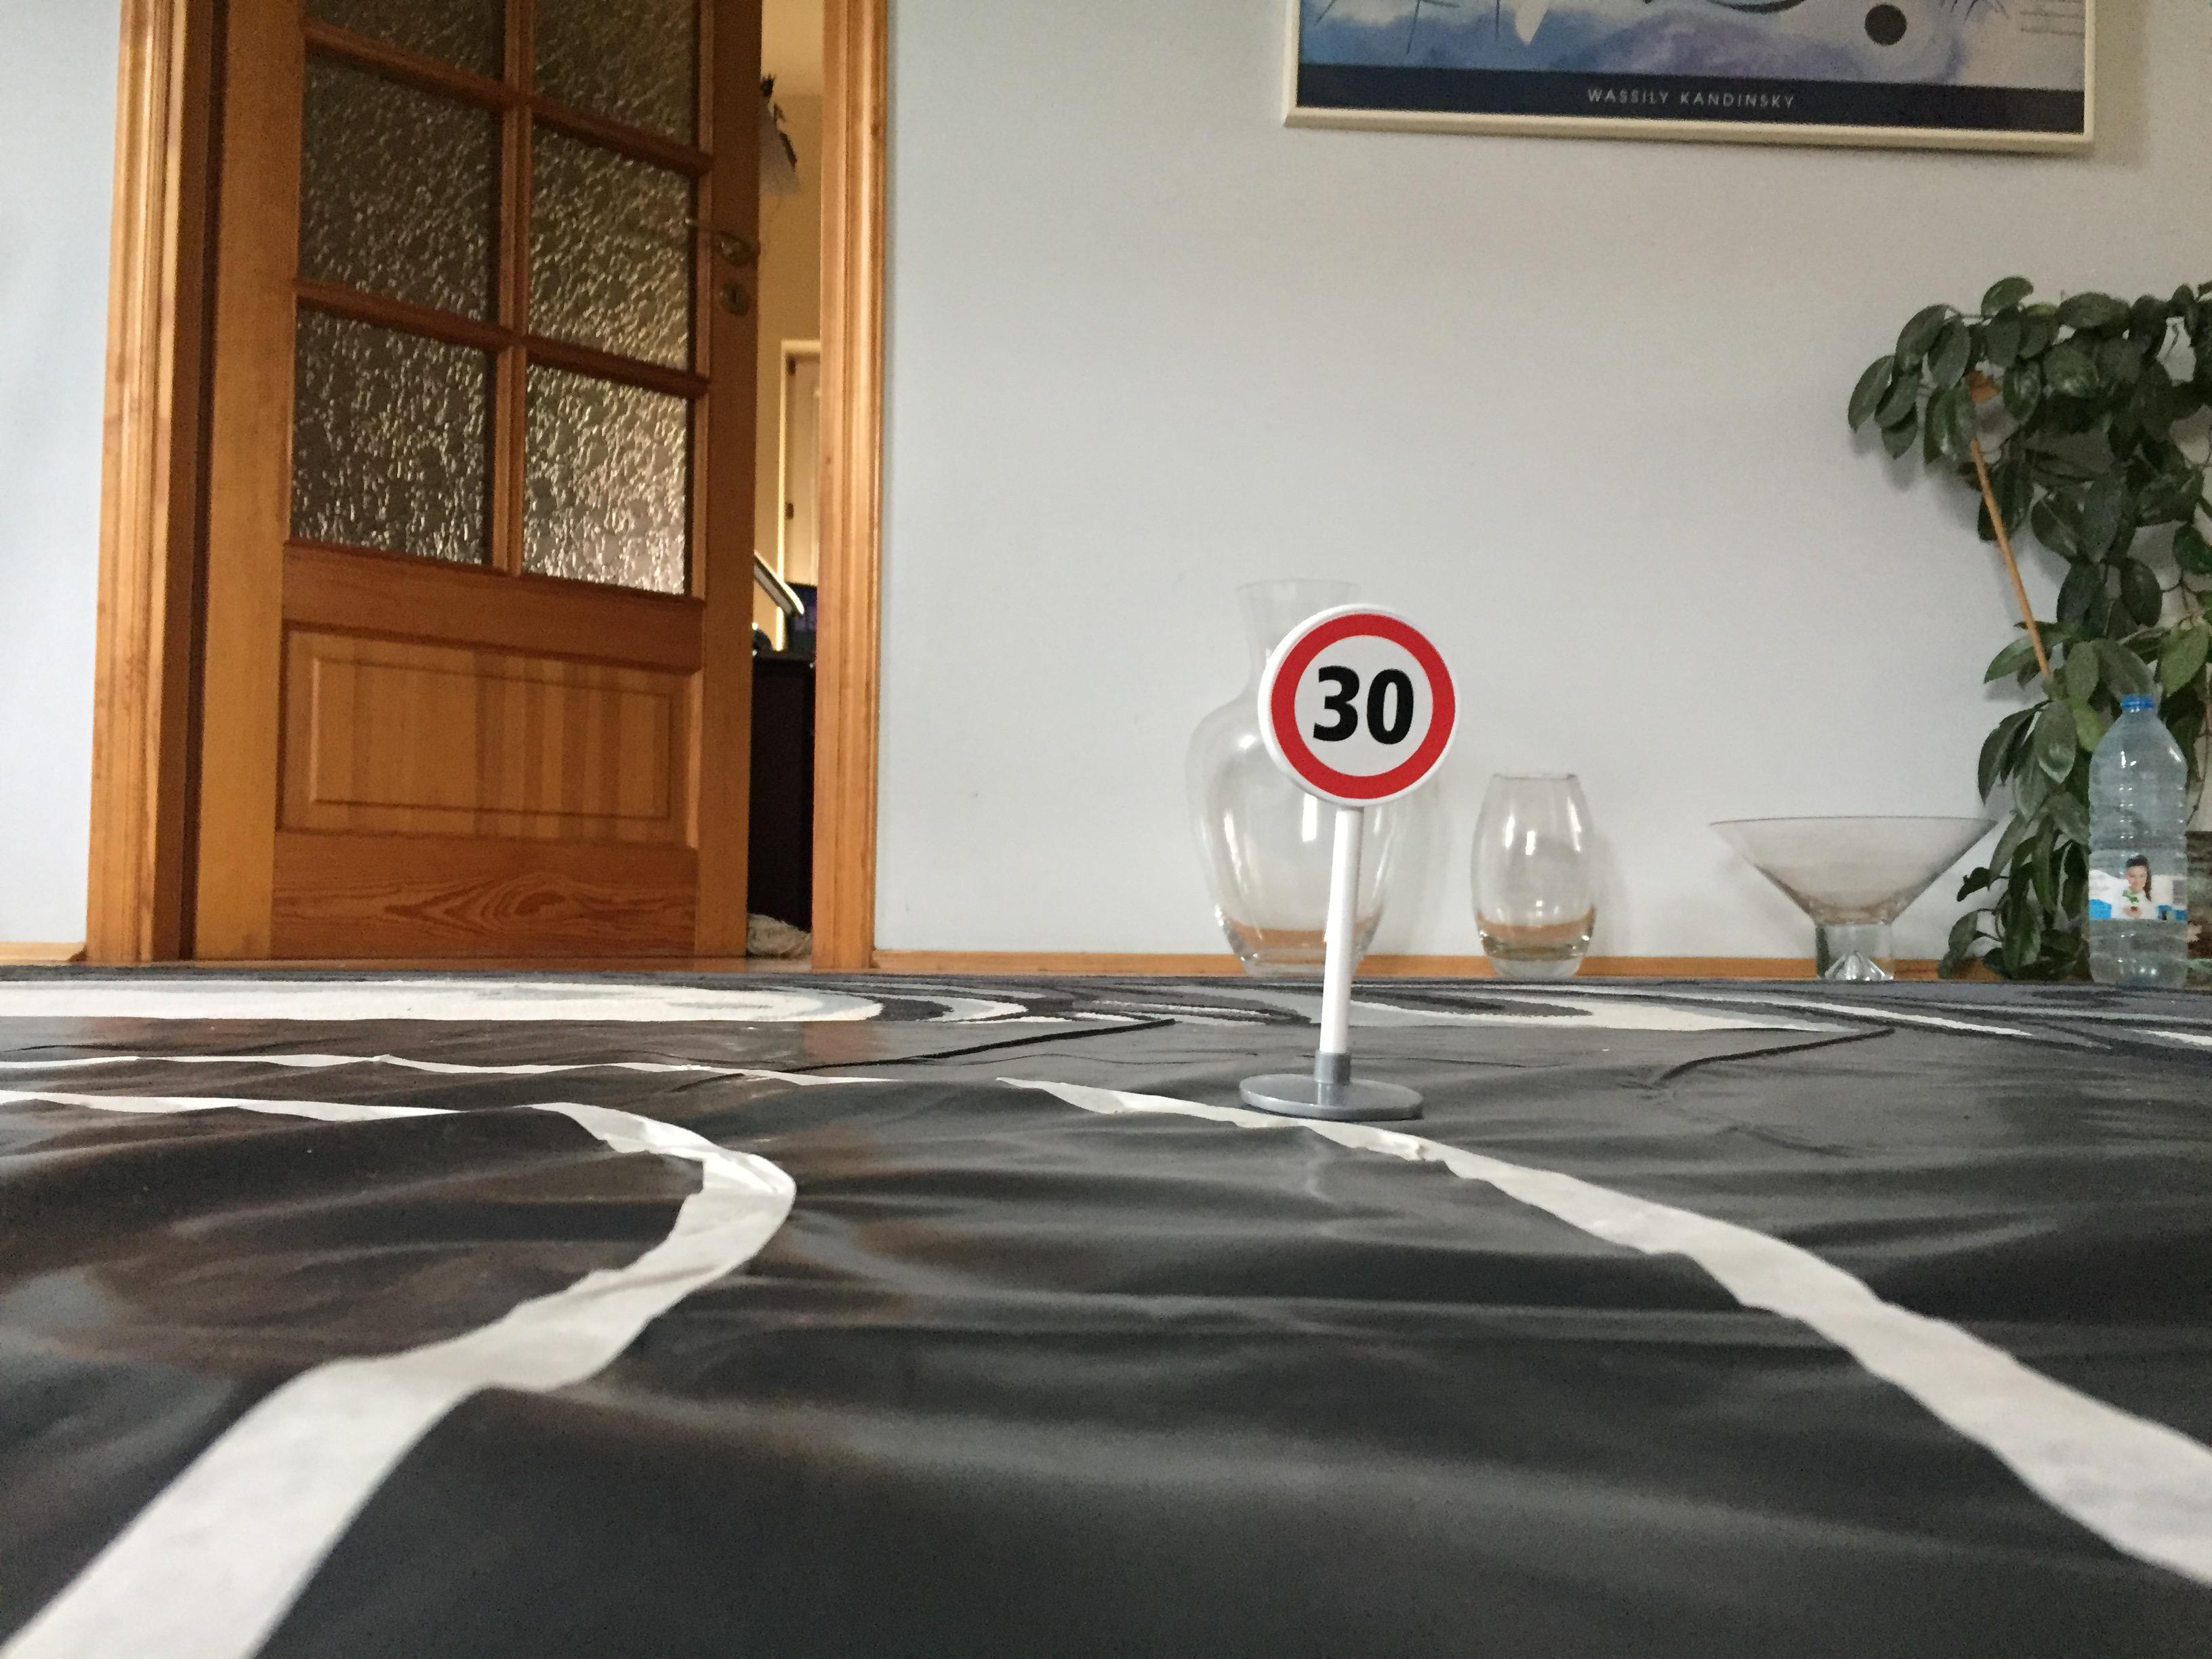speed: (1256, 603, 1468, 819)
